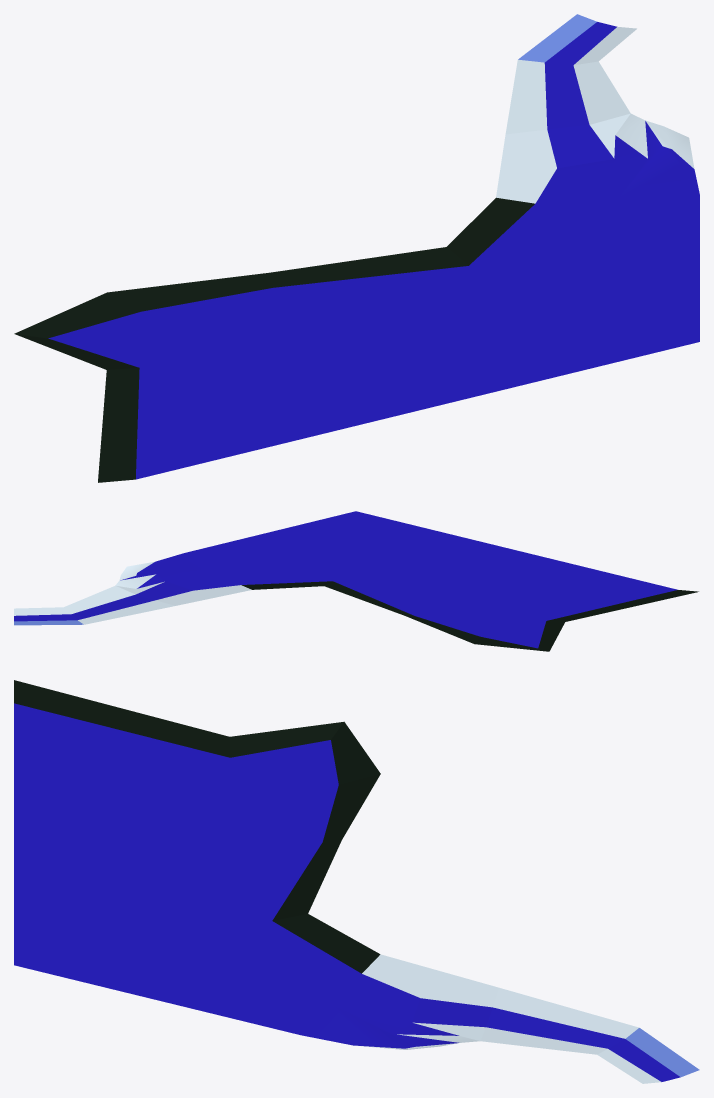
Rendered from suelo_agua.fbx.
3 renders of one model, top to bottom at view 1: azimuth 30°, elevation 25°; view 2: azimuth 150°, elevation 25°; view 3: azimuth 270°, elevation 25°, orthographic. The views are drawn at different scales.
Visible parts, largest first — view 1: Cylinder002; view 2: Cylinder002; view 3: Cylinder002.
Part boxes in pixels (left/top/right/bottom): Cylinder002: left=14, top=14, right=699, bottom=482; Cylinder002: left=14, top=511, right=698, bottom=651; Cylinder002: left=14, top=680, right=699, bottom=1083.
Size of the model in its own units: 126 by 1 by 90.19.
